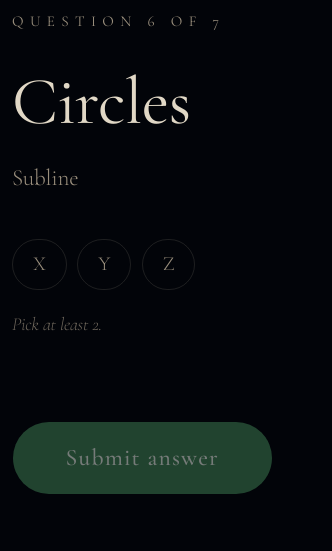
Test: RegistrationQuestionStep › shows the fixed multi reply on submit
What coordinates should you click on to do the following:
click the button "X"
I would click on:
 (39, 265)
Its box is [12,239,67,290].
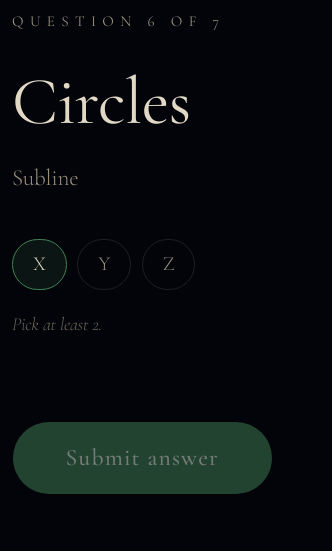
What coordinates should you click on to do the following:
click the button "Y"
I would click on:
 (104, 265)
Its box is [77,239,131,290].
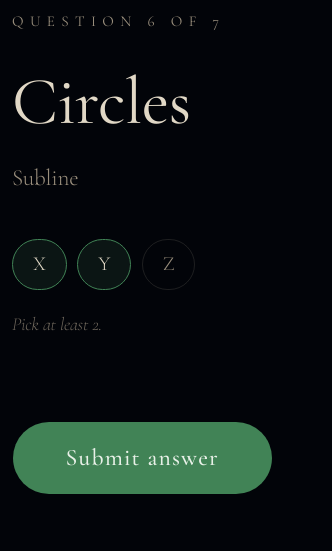
What coordinates should you click on to do the following:
click the button "Submit answer"
I would click on:
 (142, 458)
Its box is [12,421,272,495].
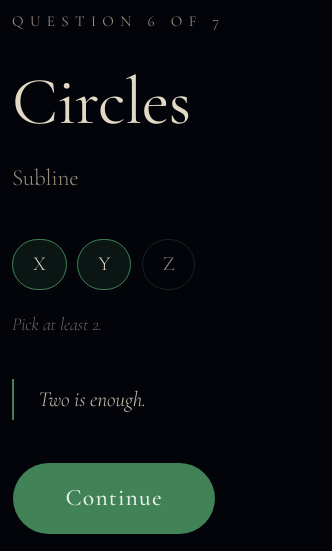
Expected: the text "Two is enough." is shown, [38,386,146,412]
